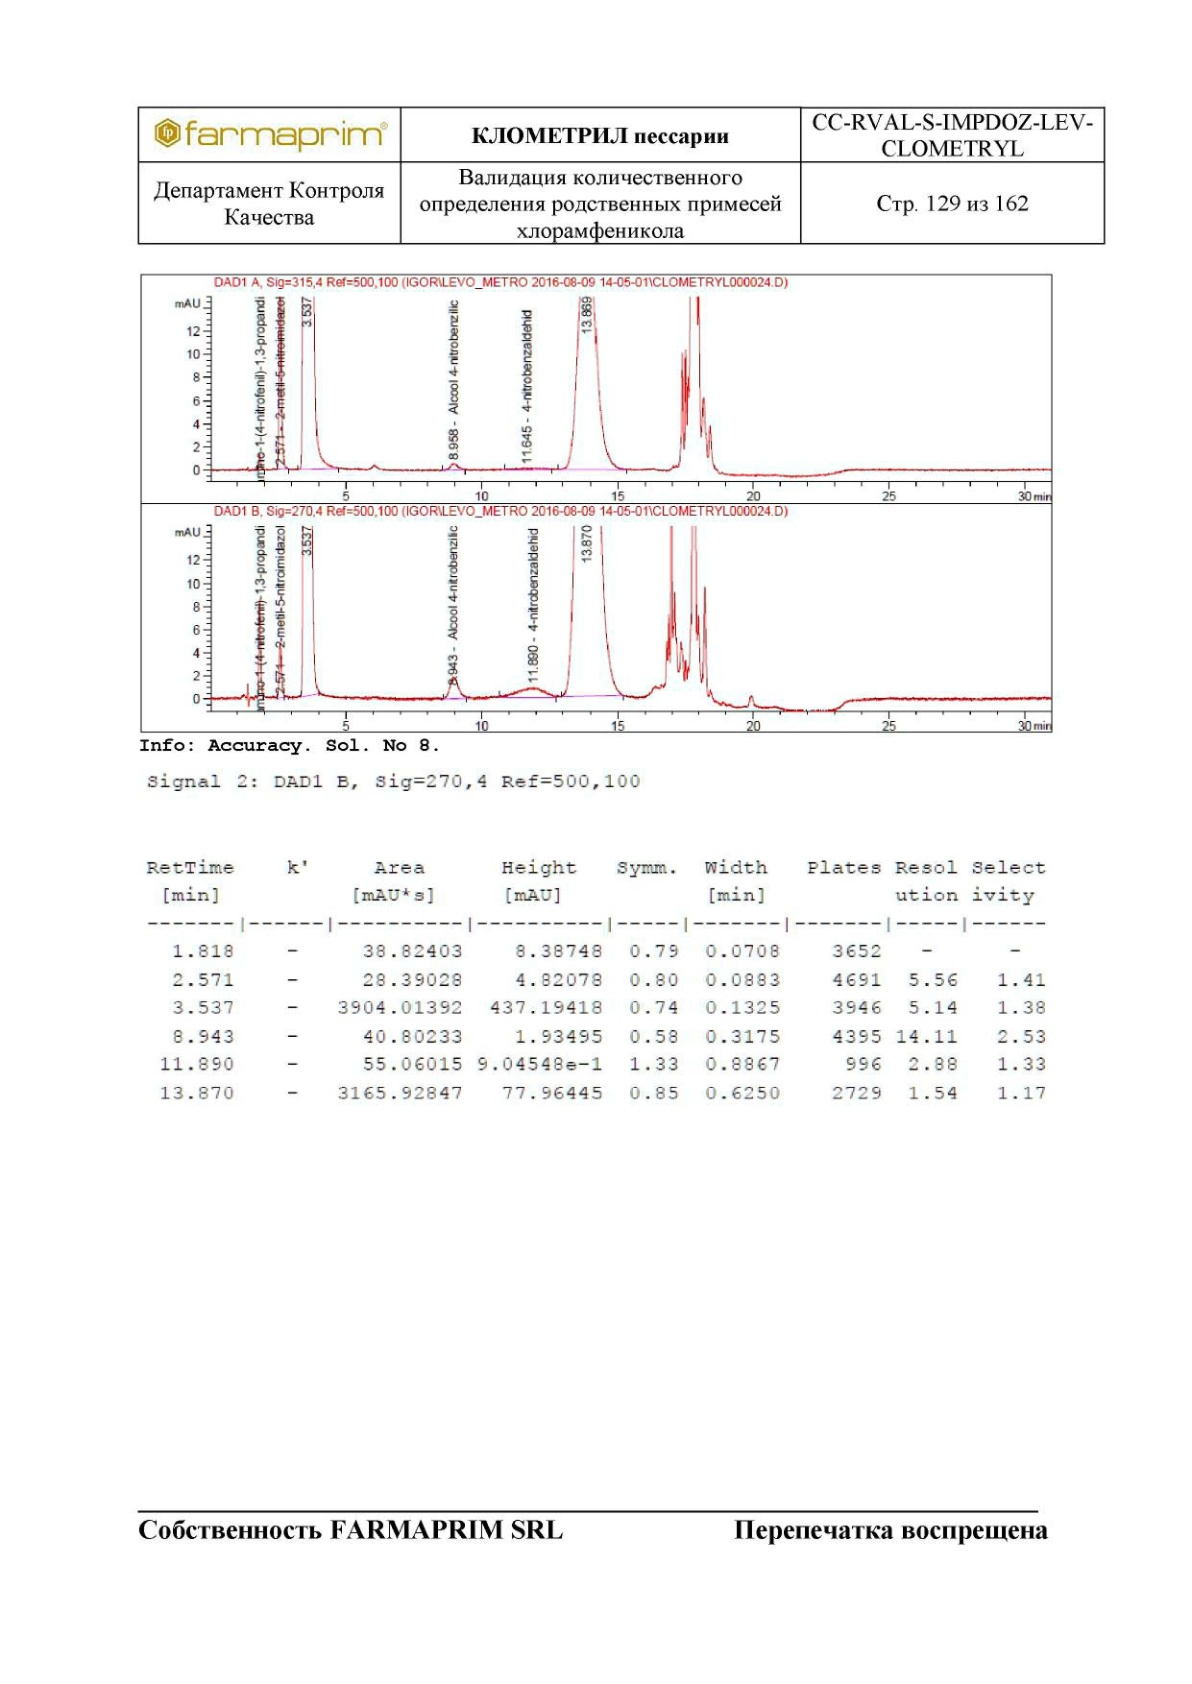full_lined: (135, 104, 1108, 245)
partial_lined: (142, 854, 1050, 1108)
